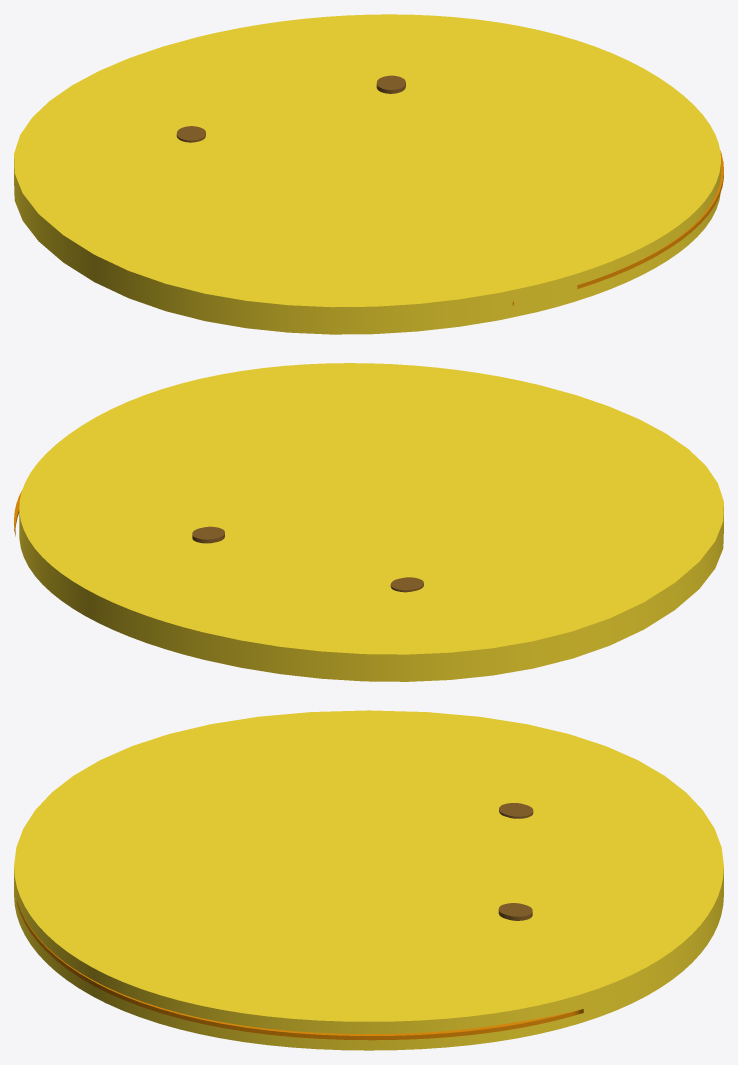
The model's file is emoji_u1f603.glb.
3 renders of one model, top to bottom at view 1: azimuth 30°, elevation 25°; view 2: azimuth 150°, elevation 25°; view 3: azimuth 270°, elevation 25°, orthographic. The views are drawn at different scales.
Visible parts, largest first — view 1: emoji_u1f603; view 2: emoji_u1f603; view 3: emoji_u1f603.
Boxes of the visible parts, left/top/right/bottom form: emoji_u1f603: left=14, top=14, right=723, bottom=334; emoji_u1f603: left=14, top=363, right=723, bottom=681; emoji_u1f603: left=14, top=710, right=723, bottom=1050.
Bounding box in the file's own units: 0.0327 × 0.0018 × 0.0314.
